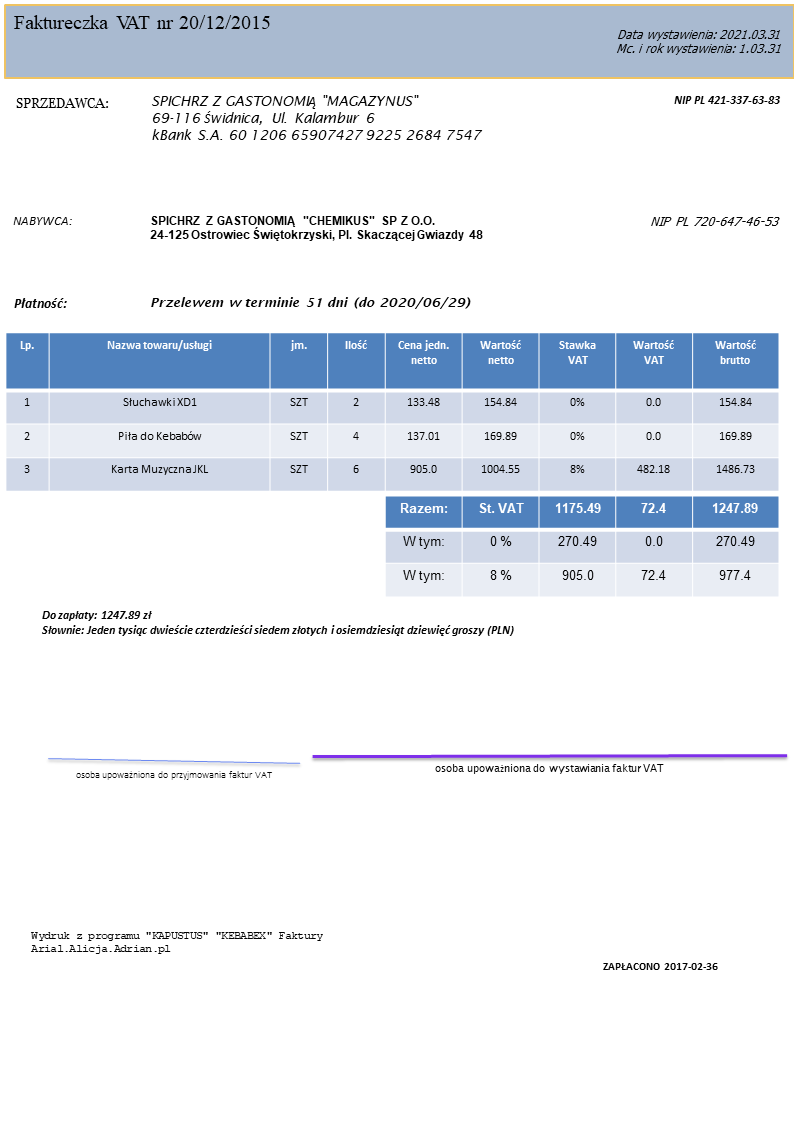Table: (4, 331, 779, 490), (384, 495, 780, 599)
TextBox: (147, 91, 485, 146), (39, 606, 515, 640), (146, 211, 485, 245), (27, 929, 326, 955), (12, 11, 272, 33), (615, 25, 784, 58), (149, 294, 472, 310), (432, 761, 666, 777), (74, 767, 274, 781), (648, 213, 781, 230), (671, 90, 783, 108), (12, 94, 111, 113), (599, 958, 719, 973), (11, 294, 68, 311), (11, 213, 74, 228)
